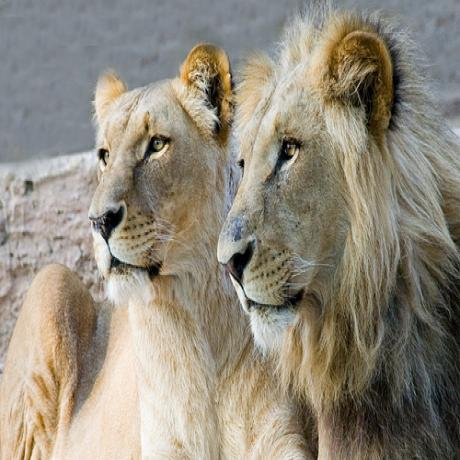Lion: (217, 0, 460, 460), (0, 0, 239, 460)
